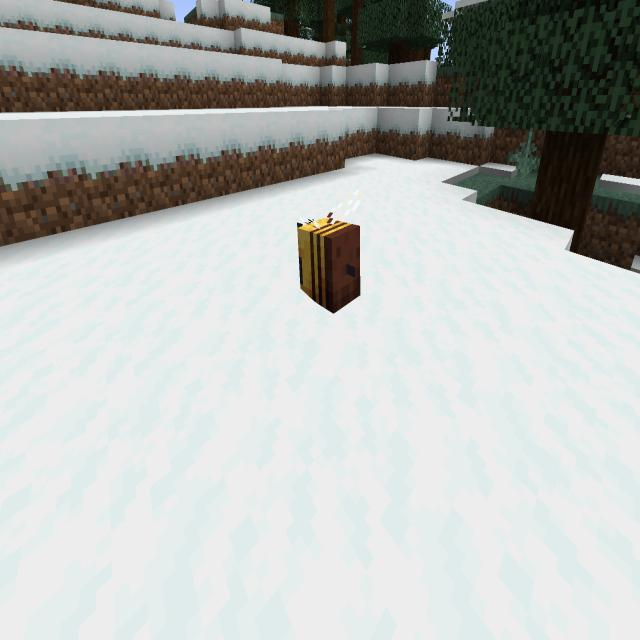bee: (287, 172, 373, 326)
